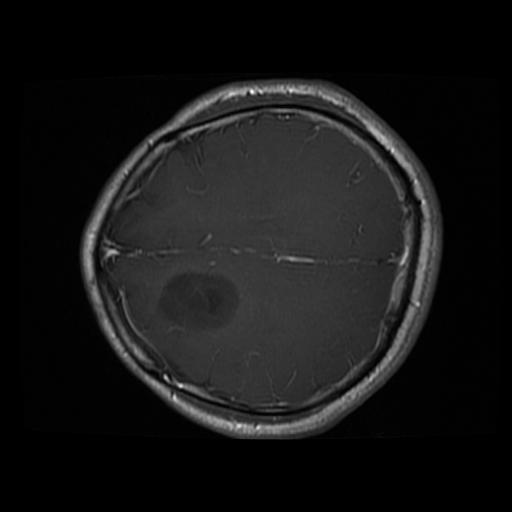glioma: (157, 269, 240, 335)
